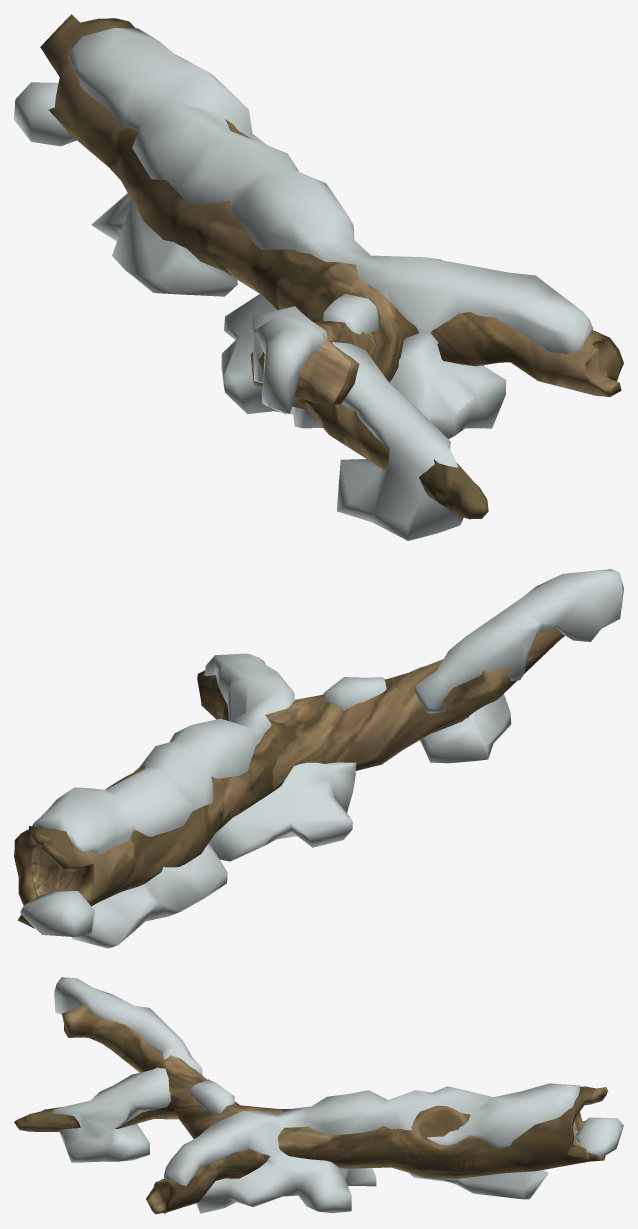
Rendered from P_OakFallen1_SnowCover.obj.
3 views of the same model, one above another, from view 1: azimuth 30°, elevation 25°; view 2: azimuth 150°, elevation 25°; view 3: azimuth 270°, elevation 25° (orthographic). The views are drawn at different scales.
Bounding box in the file's own units: 4.35 × 2.49 × 8.81.
